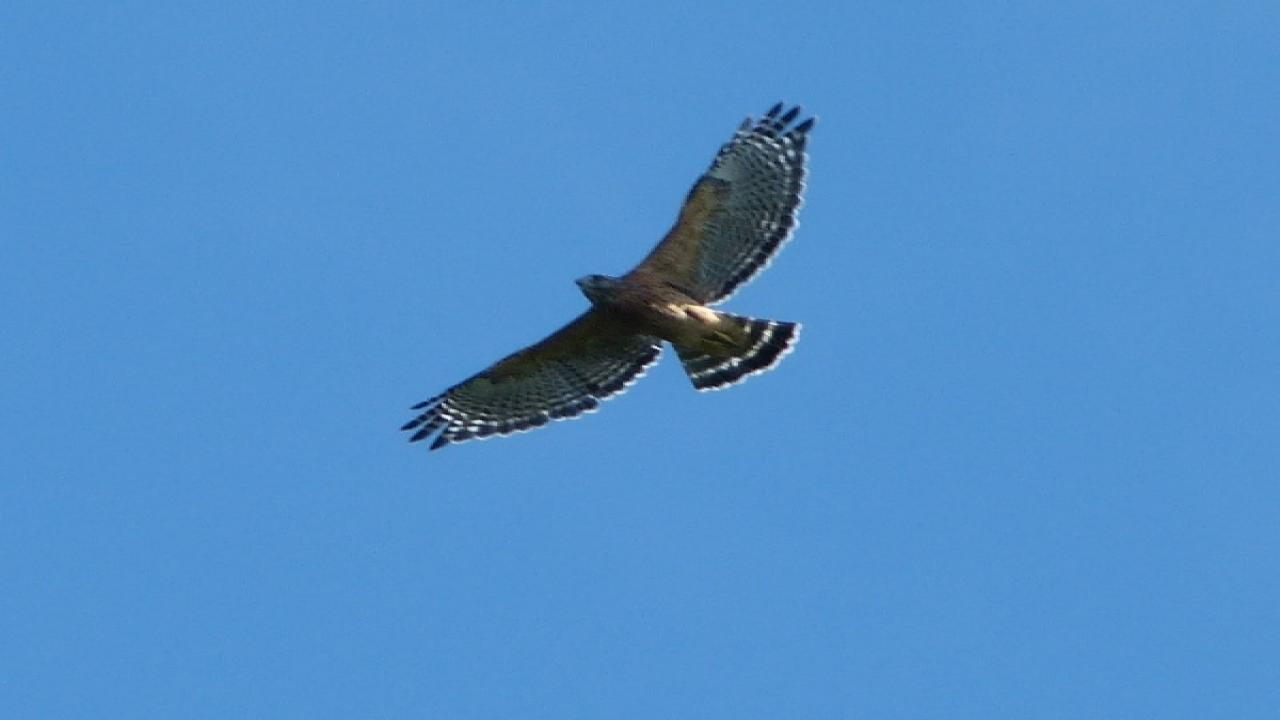Bird: (385, 97, 830, 458)
